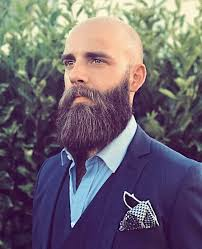b.y: (64, 86, 105, 144)
